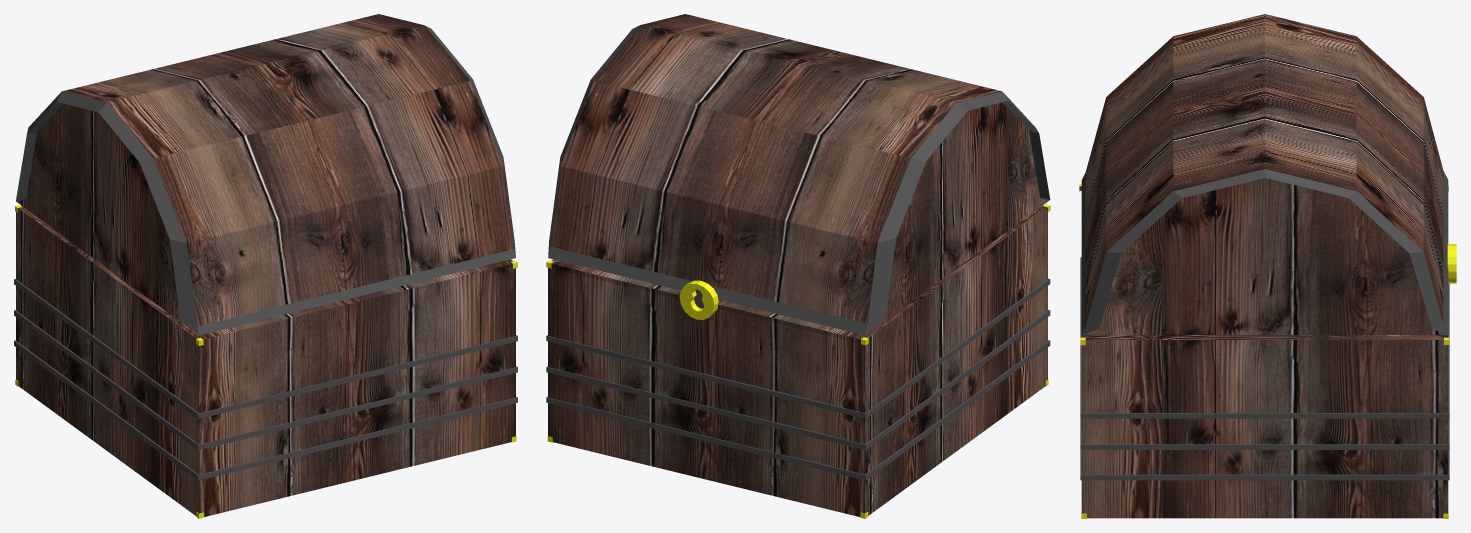
Rendered from Chest.fbx.
3 renders of one model, left to right at view 1: azimuth 30°, elevation 25°; view 2: azimuth 150°, elevation 25°; view 3: azimuth 270°, elevation 25°, orthographic.
Visible parts, largest first — view 1: ChestTop, ChestBottom; view 2: ChestTop, ChestBottom, Lock; view 3: ChestTop, ChestBottom.
Part boxes in pixels (x1,y1,x2,y2): ChestTop: (16, 14, 515, 335); ChestBottom: (14, 205, 517, 518); ChestTop: (548, 14, 1050, 335); ChestBottom: (546, 204, 1050, 518); Lock: (679, 280, 718, 319); ChestTop: (1081, 14, 1448, 334); ChestBottom: (1079, 184, 1449, 518).
Size of the model in its own units: 211 by 210 by 206.
